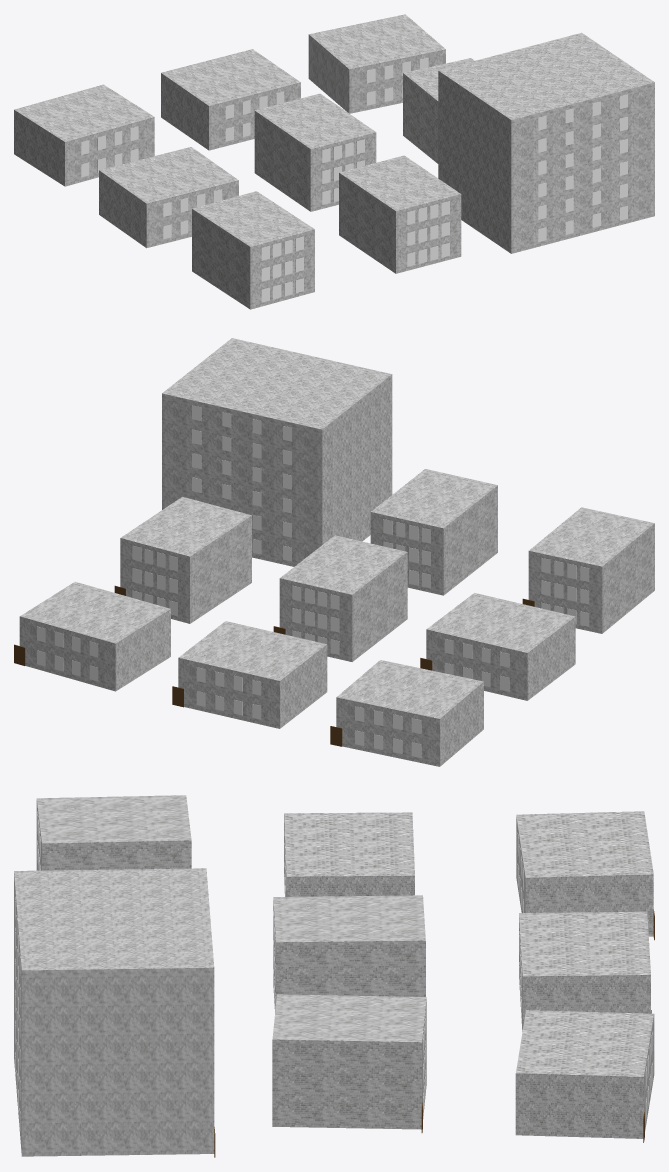
The model's file is bld_mlnenmvk_534guxr.glb.
The picture shows the model from 3 angles, top to bottom: view 1: azimuth 30°, elevation 25°; view 2: azimuth 150°, elevation 25°; view 3: azimuth 270°, elevation 25°; orthographic projection. The views are drawn at different scales.
Parts seen in each view (by area): view 1: building-building-1771139375314-18, building-building-1771139375314-17, building-building-1771139375314-16, building-building-1771139375314-6, building-building-1771139375314-12, building-building-1771139375314-7, building-building-1771139375314-11, building-building-1771139375314-8, building-building-1771139375314-13; view 2: building-building-1771139375314-18, building-building-1771139375314-8, building-building-1771139375314-13, building-building-1771139375314-7, building-building-1771139375314-6, building-building-1771139375314-12, building-building-1771139375314-16, building-building-1771139375314-11, building-building-1771139375314-17; view 3: building-building-1771139375314-18, building-building-1771139375314-13, building-building-1771139375314-8, building-building-1771139375314-12, building-building-1771139375314-6, building-building-1771139375314-7, building-building-1771139375314-16, building-building-1771139375314-11.
Boxes of the visible parts, <box> form: building-building-1771139375314-18: <box>438,32,654,253</box>; building-building-1771139375314-17: <box>339,155,461,273</box>; building-building-1771139375314-16: <box>192,191,314,309</box>; building-building-1771139375314-6: <box>14,84,154,186</box>; building-building-1771139375314-12: <box>254,93,376,211</box>; building-building-1771139375314-7: <box>161,49,300,150</box>; building-building-1771139375314-11: <box>99,147,238,248</box>; building-building-1771139375314-8: <box>308,14,445,113</box>; building-building-1771139375314-13: <box>403,58,474,163</box>; building-building-1771139375314-18: <box>162,338,392,566</box>; building-building-1771139375314-8: <box>14,581,170,691</box>; building-building-1771139375314-13: <box>114,496,251,623</box>; building-building-1771139375314-7: <box>172,621,327,728</box>; building-building-1771139375314-6: <box>330,660,483,766</box>; building-building-1771139375314-12: <box>273,535,407,661</box>; building-building-1771139375314-16: <box>522,507,654,633</box>; building-building-1771139375314-11: <box>420,593,575,700</box>; building-building-1771139375314-17: <box>370,469,497,595</box>; building-building-1771139375314-18: <box>14,868,215,1157</box>; building-building-1771139375314-13: <box>272,994,426,1132</box>; building-building-1771139375314-8: <box>515,1010,654,1142</box>; building-building-1771139375314-12: <box>273,895,425,1008</box>; building-building-1771139375314-6: <box>516,811,654,940</box>; building-building-1771139375314-7: <box>519,911,651,1031</box>; building-building-1771139375314-16: <box>36,795,191,870</box>; building-building-1771139375314-11: <box>284,812,414,896</box>.
Size of the model in its own units: 62.86 by 19.23 by 59.9.
Materials: 45 (9 with a texture image).
